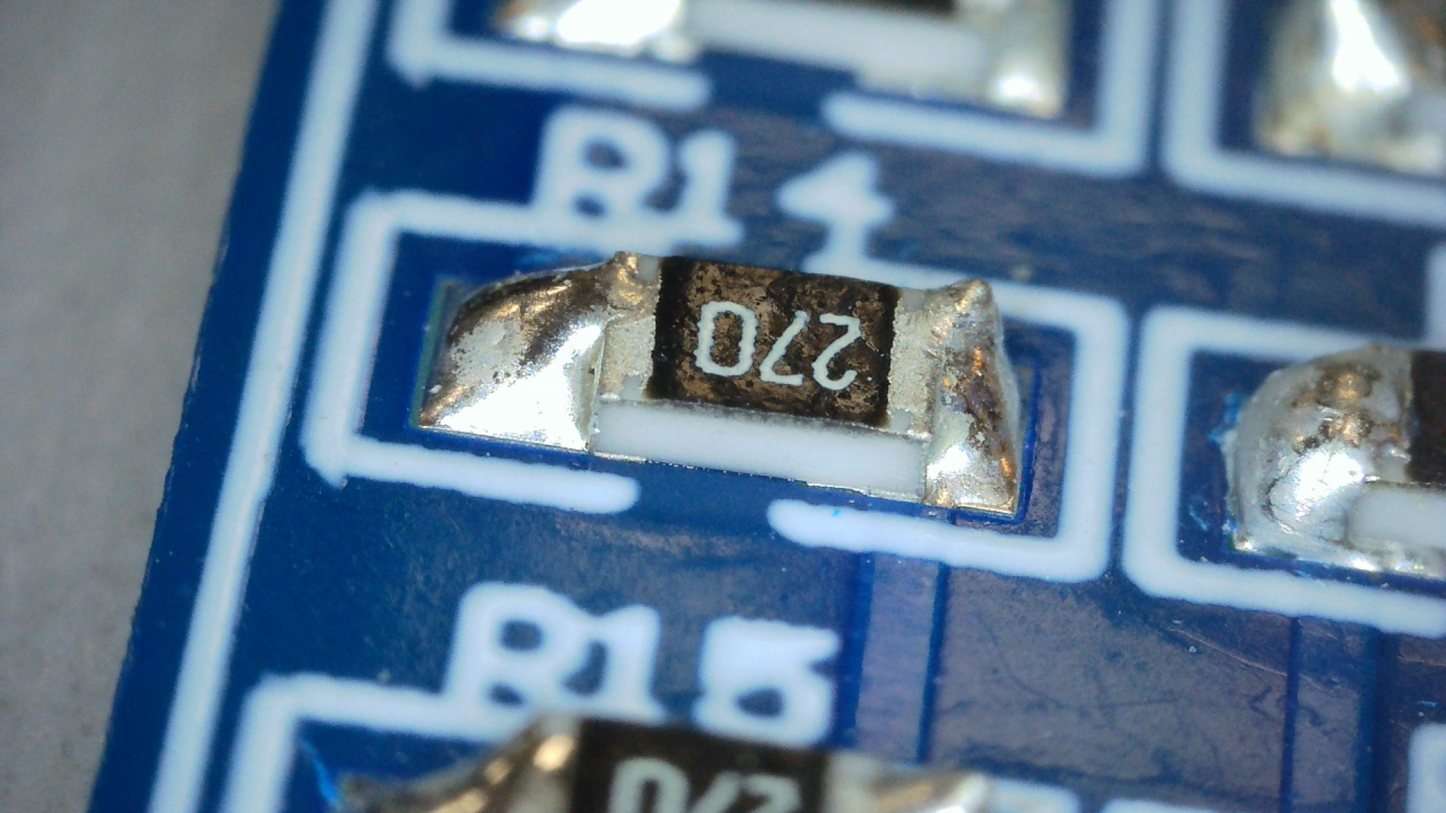NG: (419, 251, 659, 448), (909, 279, 1022, 510)
